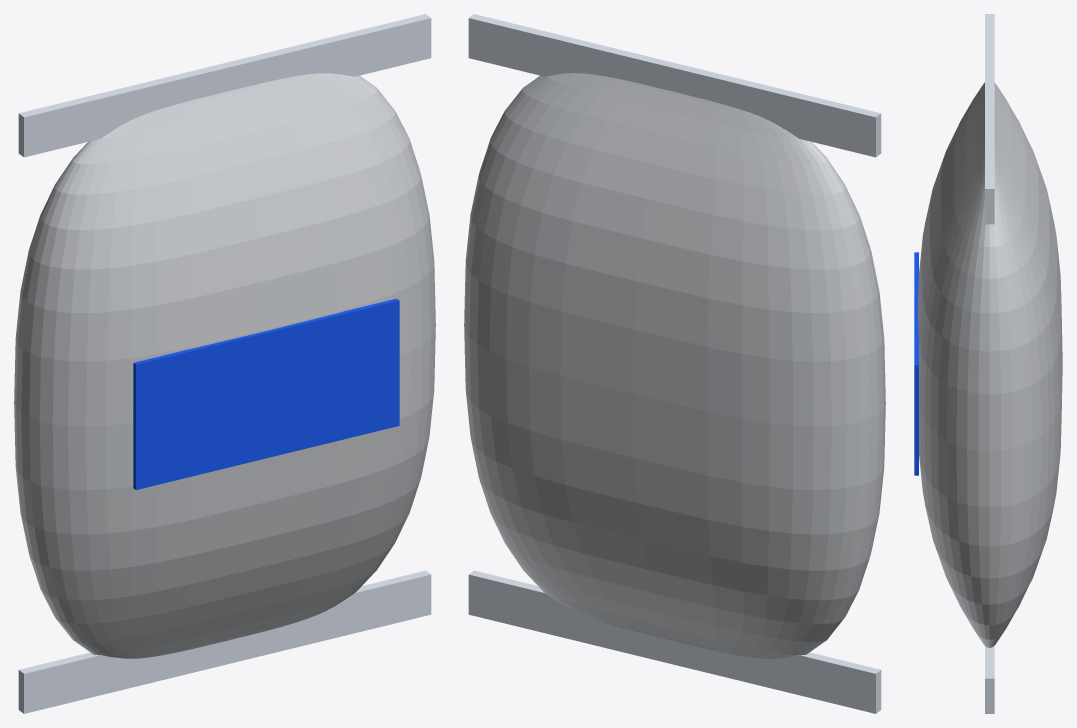
File: milk_pouch.glb
3 views of the same model, side by side, from view 1: azimuth 30°, elevation 25°; view 2: azimuth 150°, elevation 25°; view 3: azimuth 270°, elevation 25° (orthographic). The views are drawn at different scales.
Visible parts, largest first — view 1: pouch, band, seal_top, seal_bot; view 2: pouch, seal_top, seal_bot; view 3: pouch, seal_top, band, seal_bot.
Boxes of the visible parts, x1=… form: pouch: x1=14, y1=73, x2=435, y2=658; band: x1=133, y1=298, x2=399, y2=489; seal_top: x1=18, y1=14, x2=431, y2=157; seal_bot: x1=18, y1=570, x2=431, y2=713; pouch: x1=464, y1=73, x2=885, y2=658; seal_top: x1=468, y1=14, x2=881, y2=157; seal_bot: x1=468, y1=570, x2=881, y2=713; pouch: x1=917, y1=82, x2=1062, y2=647; seal_top: x1=985, y1=14, x2=994, y2=224; band: x1=914, y1=252, x2=918, y2=475; seal_bot: x1=985, y1=646, x2=994, y2=713.
Size of the model in its own units: 0.17 by 0.238 by 0.061.
